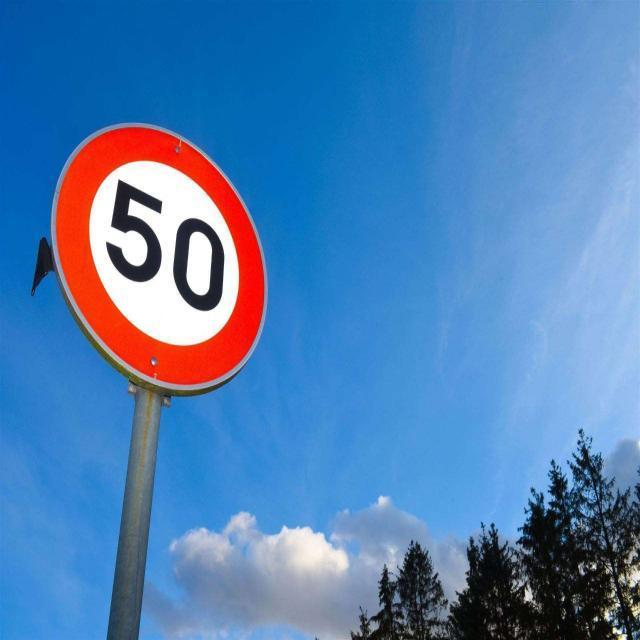speed limit 50: (54, 116, 269, 386)
